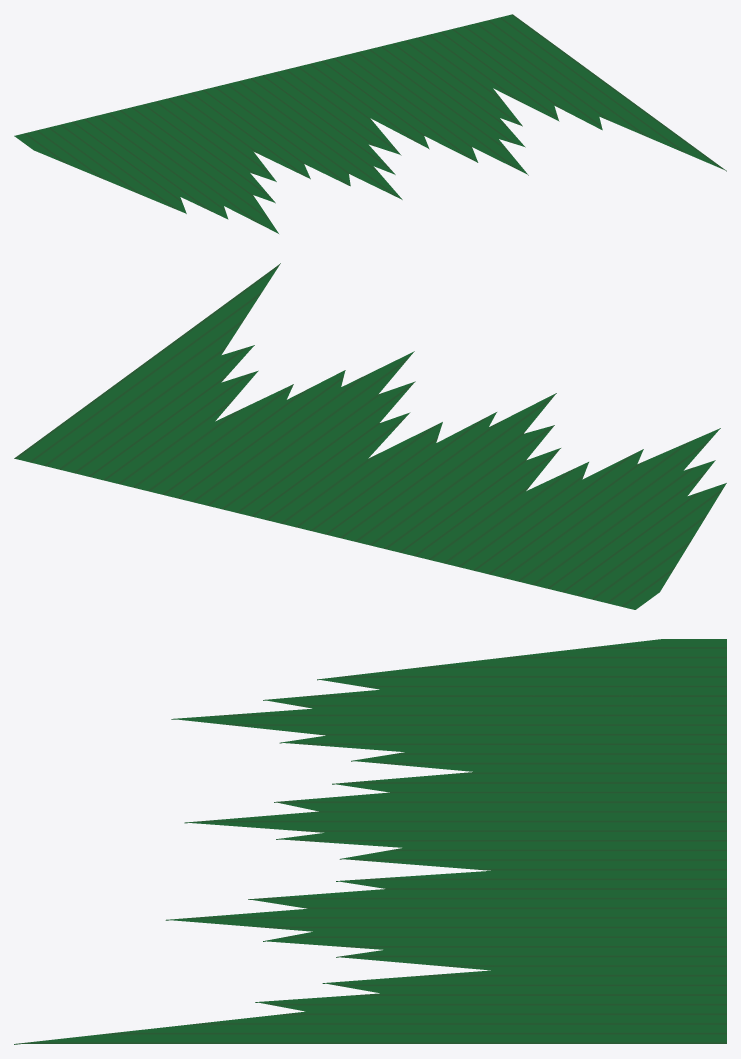
File: Baran.glb
3 views of the same model, one above another, from view 1: azimuth 30°, elevation 25°; view 2: azimuth 150°, elevation 25°; view 3: azimuth 270°, elevation 25° (orthographic). The views are drawn at different scales.
Parts seen in each view (by area): view 1: polytri; view 2: polytri; view 3: polytri.
Part boxes in pixels (x1,y1,x2,y2): polytri: (14, 14, 726, 233); polytri: (14, 263, 726, 609); polytri: (14, 639, 726, 1044).
Bounding box in the file's own units: 1 × 0.001 × 0.7441.
1 material, 1 textured.
